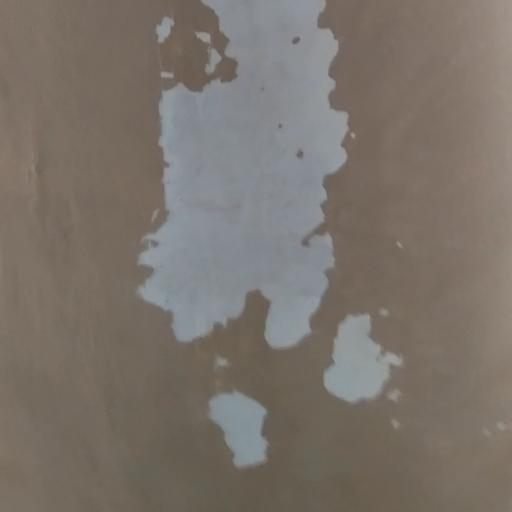peeling: (114, 0, 405, 478)
